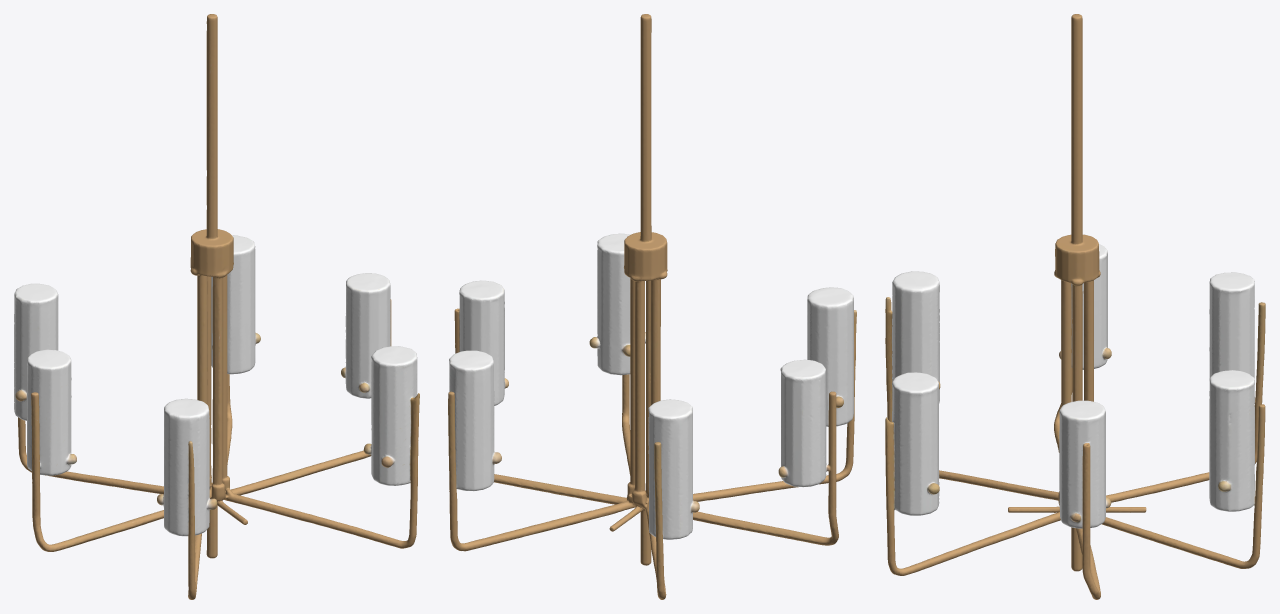
Rendered from lustra.glb.
3 renders of one model, left to right at view 1: azimuth 30°, elevation 25°; view 2: azimuth 150°, elevation 25°; view 3: azimuth 270°, elevation 25°, orthographic. The views are drawn at different scales.
Visible parts, largest first — view 1: world; view 2: world; view 3: world.
Part boxes in pixels (box(x1,y1,x2,y2)): world: box(14, 14, 419, 599); world: box(448, 14, 856, 599); world: box(885, 14, 1265, 599).
Bounding box in the file's own units: 0.713 × 1 × 0.6243.
Materials: 1 (1 with a texture image).
